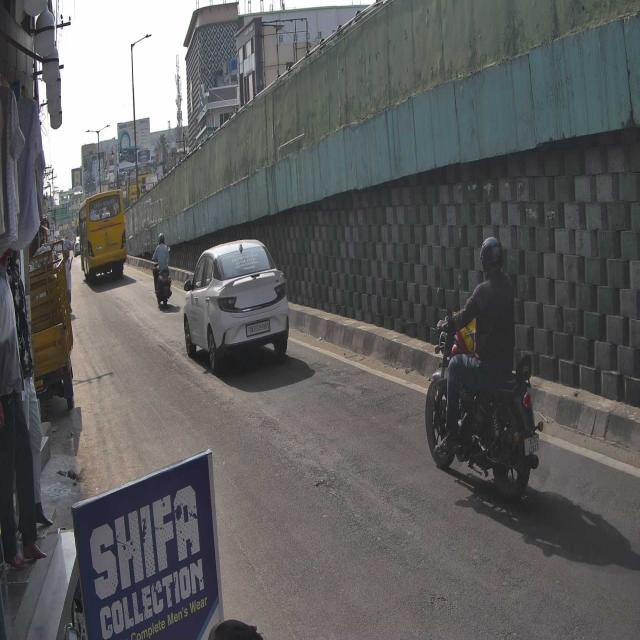single_rider: (424, 235, 544, 504)
